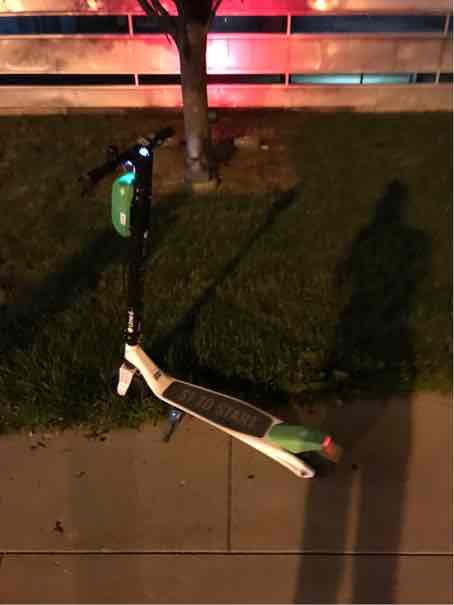scooter: (70, 129, 348, 488)
